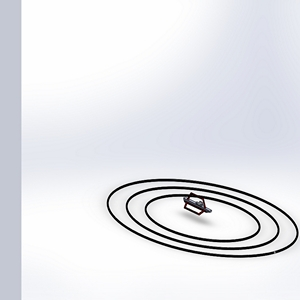circle: (102, 165, 300, 278)
submarine: (176, 191, 219, 225)
